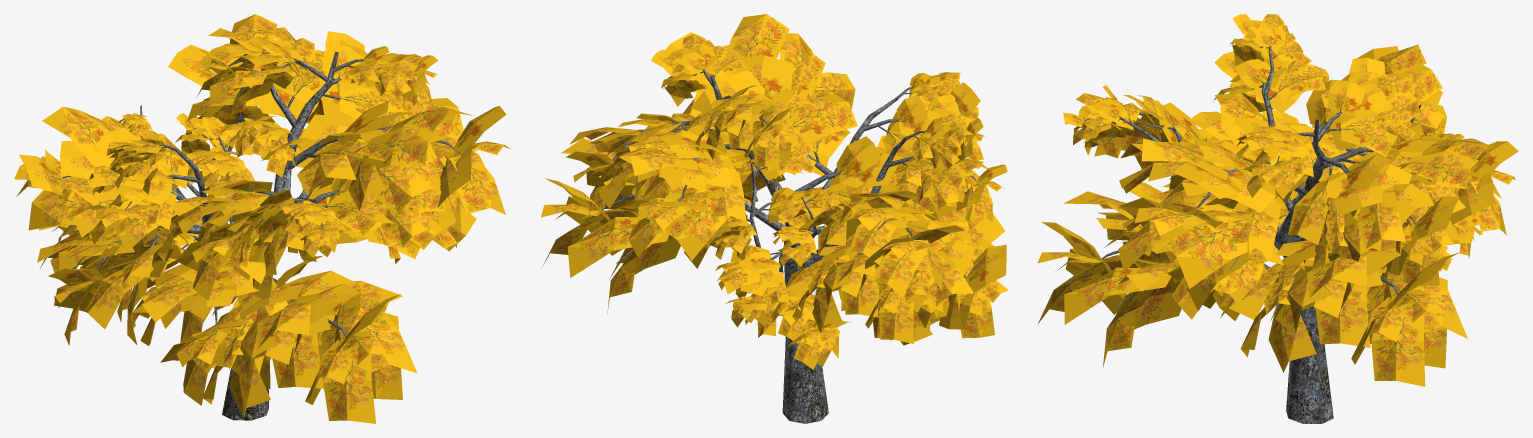
Rendered from oak.obj.
3 views of the same model, side by side, from view 1: azimuth 30°, elevation 25°; view 2: azimuth 150°, elevation 25°; view 3: azimuth 270°, elevation 25° (orthographic). The views are drawn at different scales.
Visible parts, largest first — view 1: OakTree; view 2: OakTree; view 3: OakTree.
Part boxes in pixels (box(x1,y1,x2,y2)): OakTree: box(14, 14, 510, 423); OakTree: box(541, 14, 1008, 423); OakTree: box(1037, 14, 1518, 423).
Size of the model in its own units: 5.7 by 4.35 by 5.36.
Materials: 2 (2 with a texture image).
